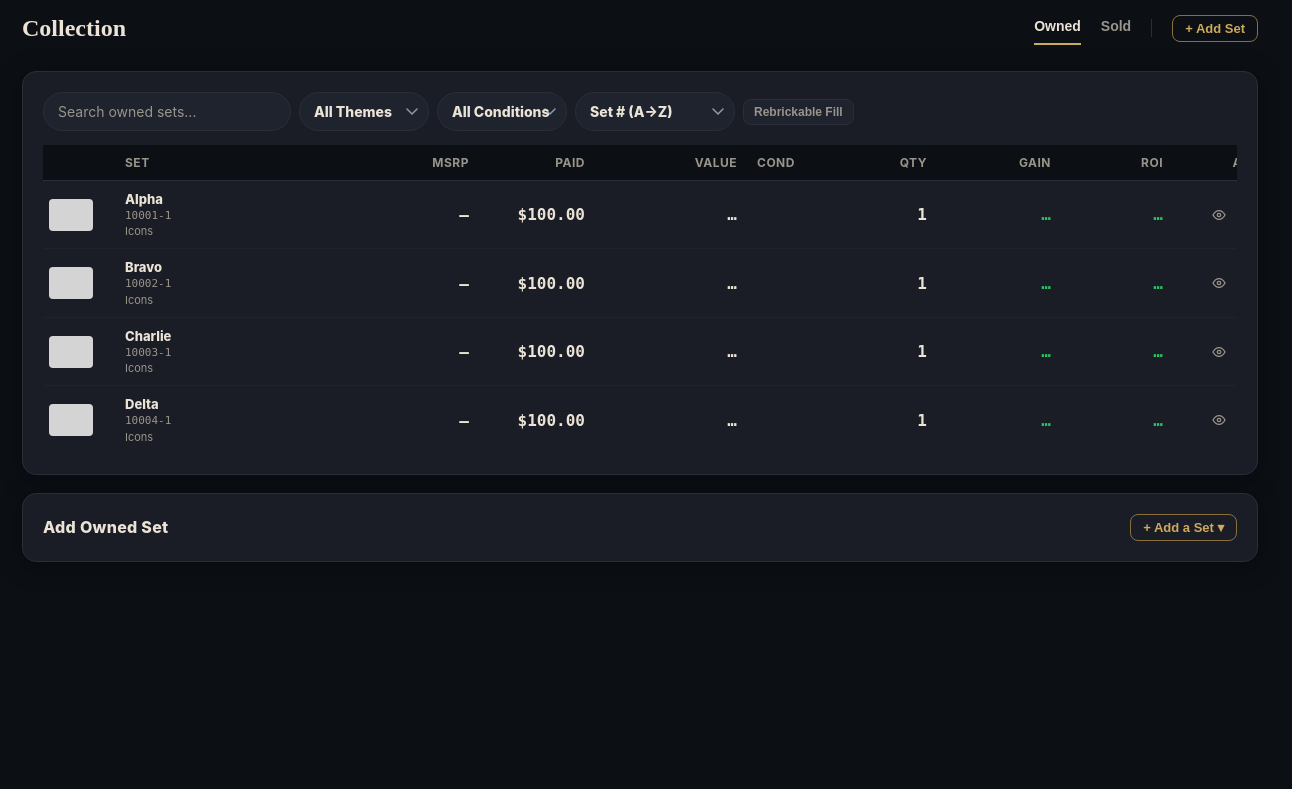
Phase 3 selection — click-to-highlight › shift-click selects the inclusive range in visible order from the anchor
What coordinates should you click on to do the following:
click the row "Bravo 10002-1 Icons — $100.00 … 1 … …"
I would click on:
 (662, 283)
Its box is [43,249,1280,318].
(page scrolled)
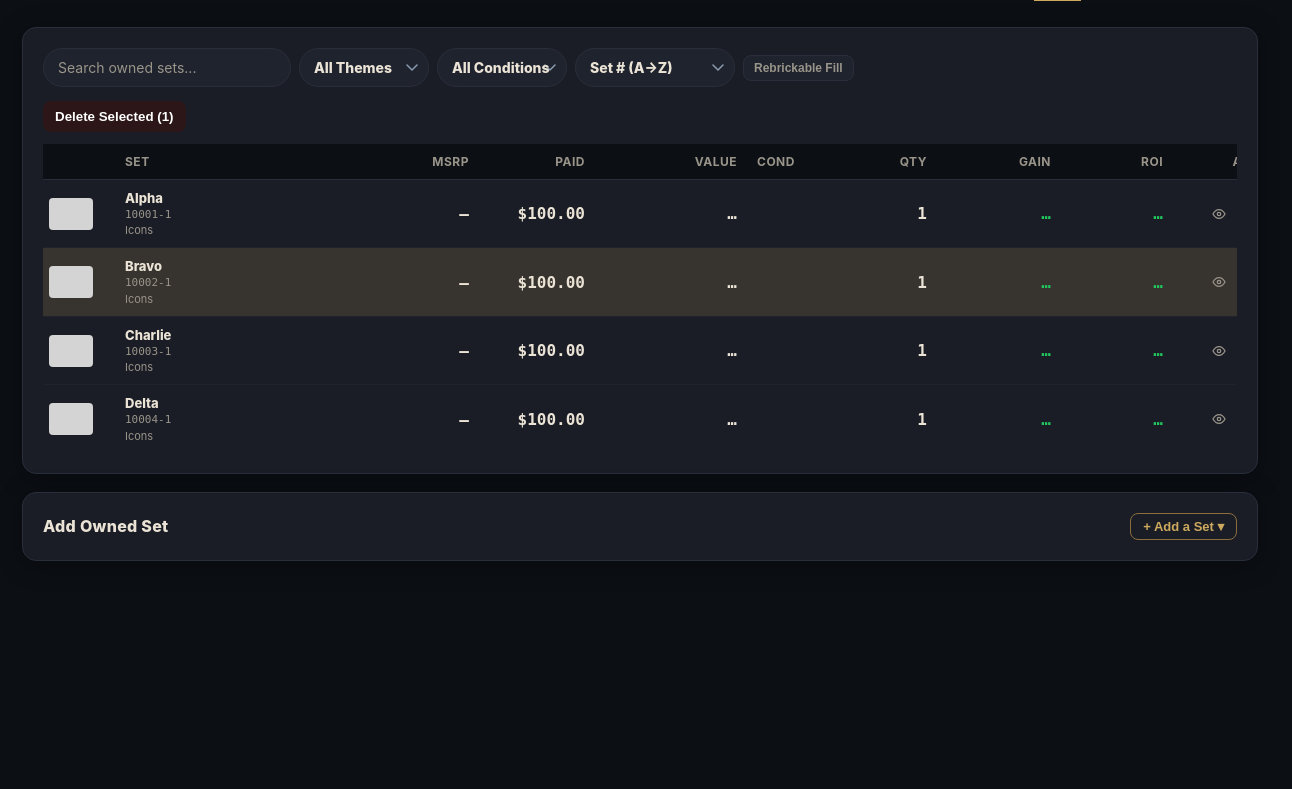
What coordinates should you click on to do the following:
click the row "Delta 10004-1 Icons — $100.00 … 1 … …"
I would click on:
 (662, 419)
Its box is [43,385,1280,453].
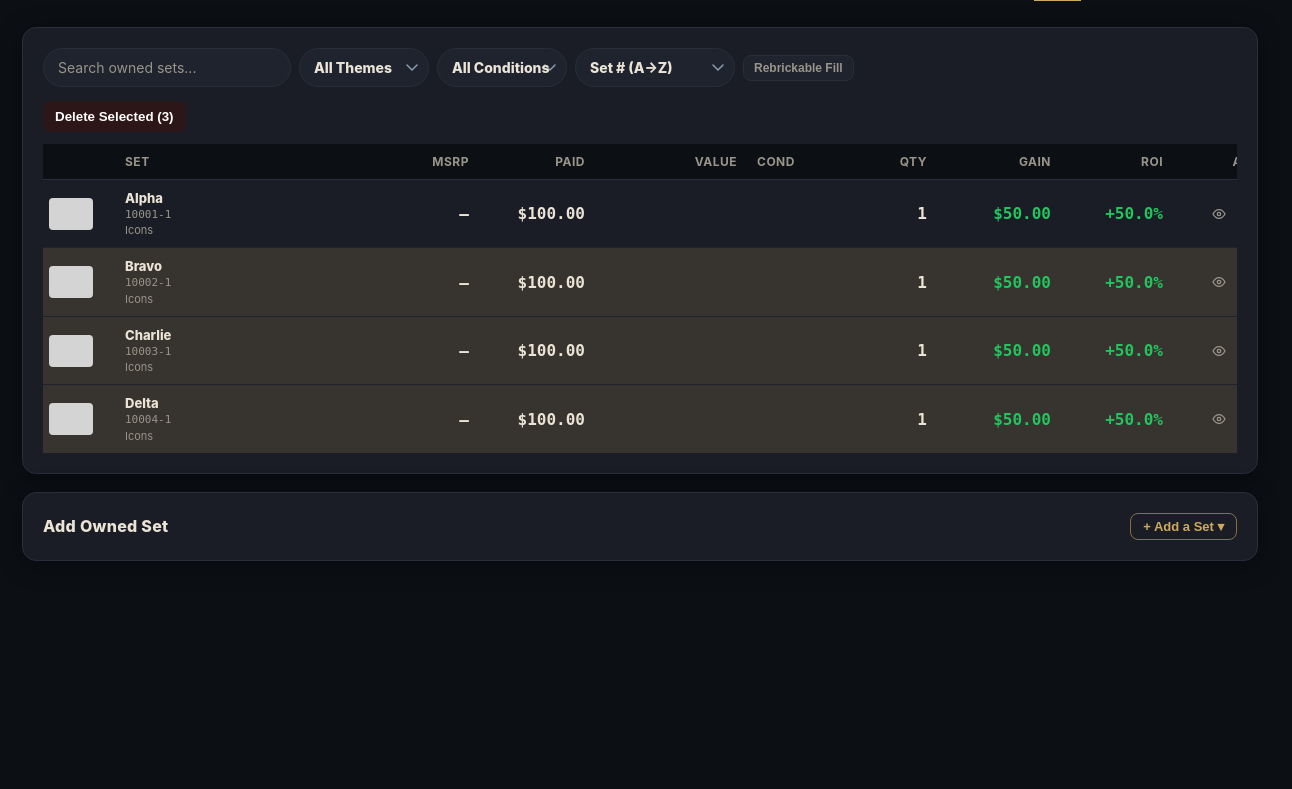
Result: the text "Delete Selected (3)" is shown at [43,101,186,132]
